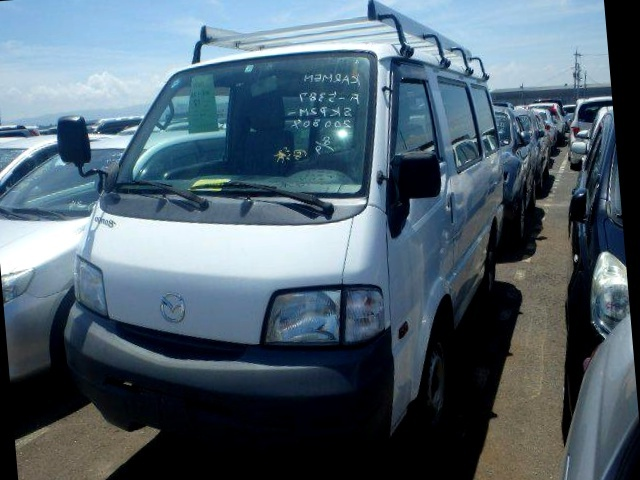van: (37, 17, 524, 478)
